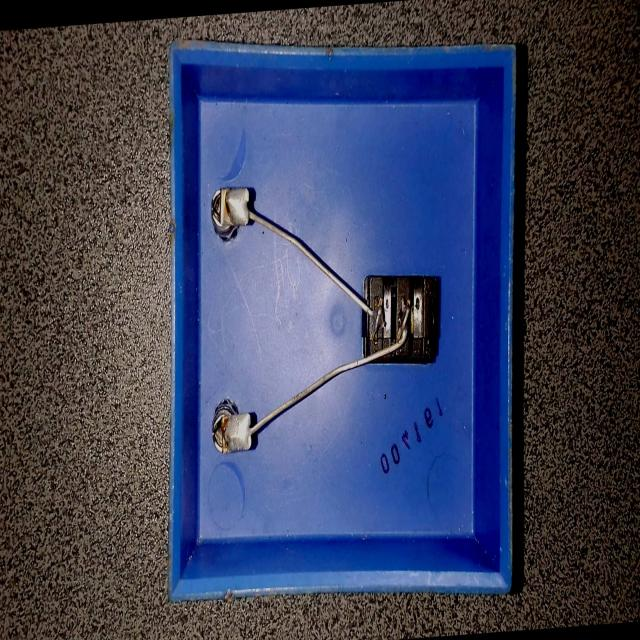ON-OFF Switch: (145, 20, 555, 633)
